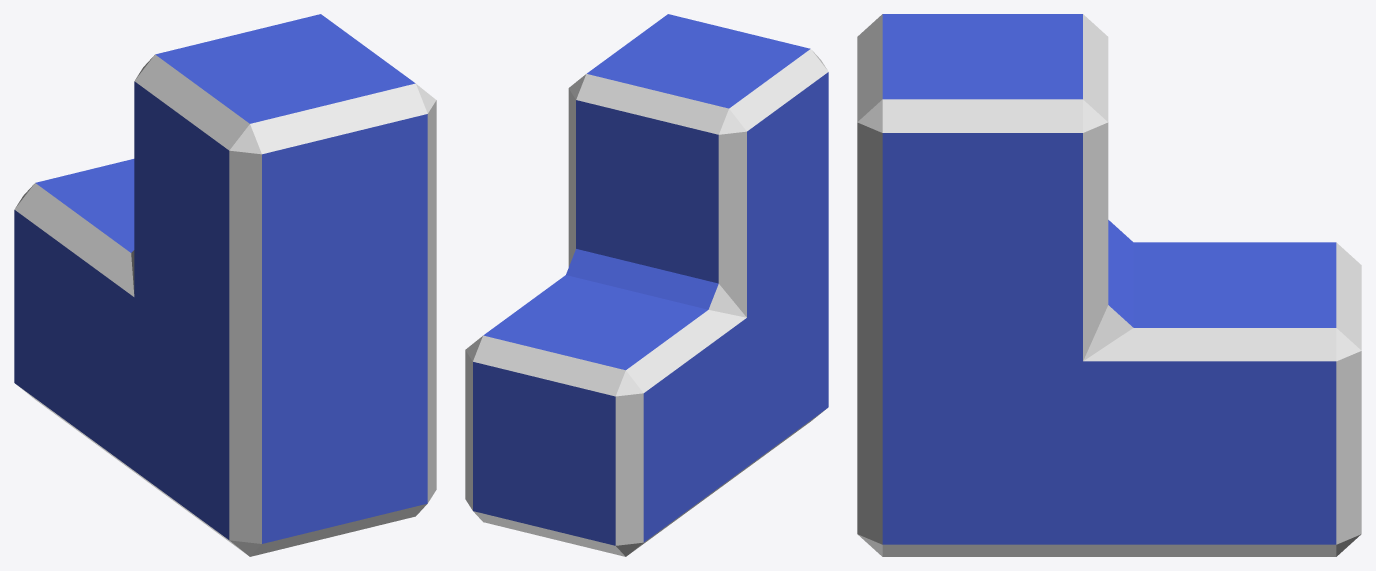
Rendered from Zid Cosak.fbx.
3 views of the same model, side by side, from view 1: azimuth 30°, elevation 25°; view 2: azimuth 150°, elevation 25°; view 3: azimuth 270°, elevation 25° (orthographic). The views are drawn at different scales.
Parts seen in each view (by area): view 1: Cube.021; view 2: Cube.021; view 3: Cube.021.
Part boxes in pixels (box(x1,y1,x2,y2)): Cube.021: box(14, 14, 436, 556); Cube.021: box(465, 14, 828, 556); Cube.021: box(857, 14, 1361, 556).
Size of the model in its own units: 1 by 2 by 2.
